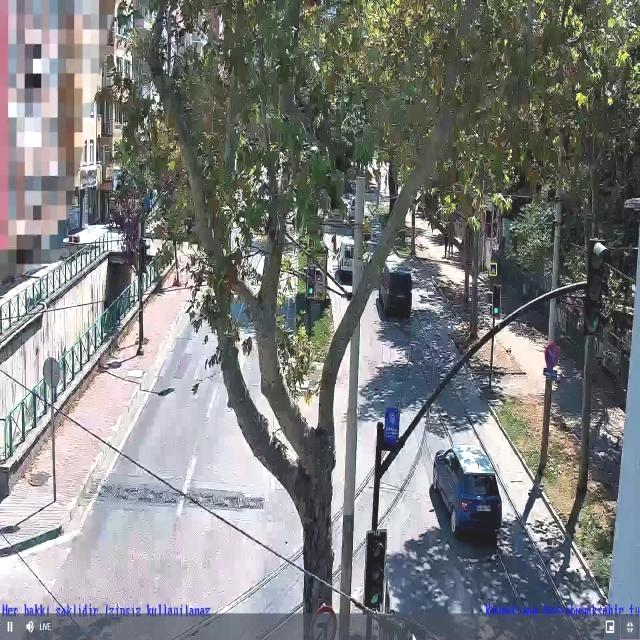Car: (428, 442, 504, 542)
Van: (380, 264, 415, 318)
